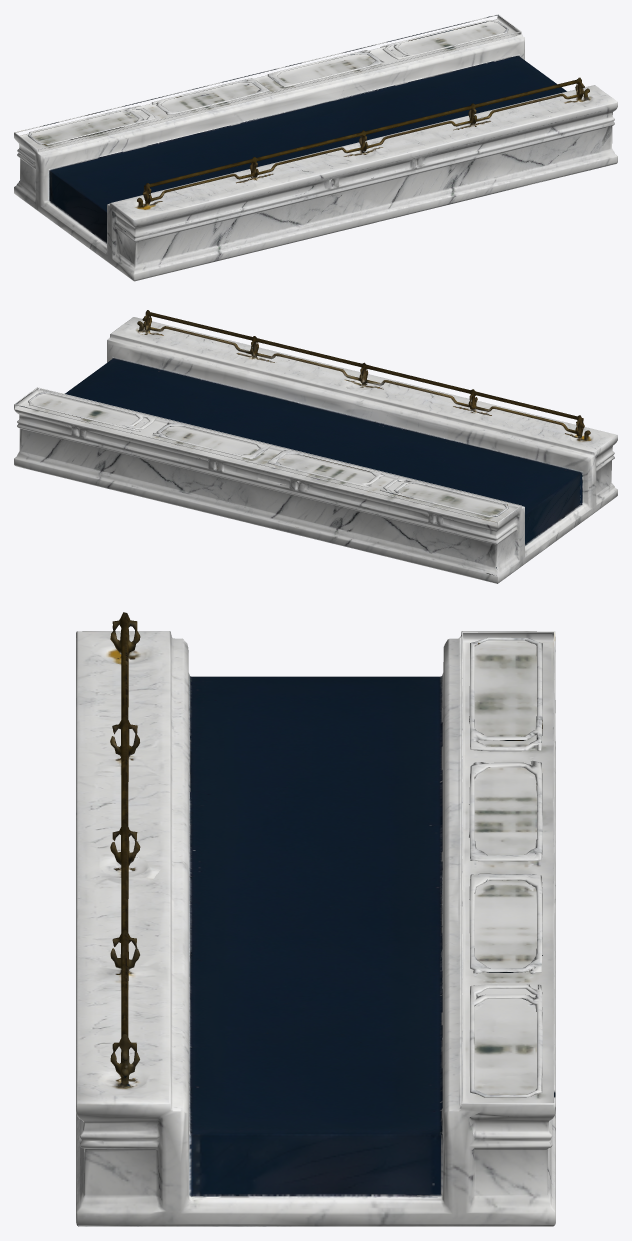
The model's file is Marble_Water_Channel__2.fbx.
The picture shows the model from 3 angles, top to bottom: view 1: azimuth 30°, elevation 25°; view 2: azimuth 150°, elevation 25°; view 3: azimuth 270°, elevation 25°; orthographic projection. The views are drawn at different scales.
Visible parts, largest first — view 1: Marble_Water_Channel__2_LOD0; view 2: Marble_Water_Channel__2_LOD0; view 3: Marble_Water_Channel__2_LOD0.
Part boxes in pixels (x1,y1,x2,y2): Marble_Water_Channel__2_LOD0: (14, 14, 617, 281); Marble_Water_Channel__2_LOD0: (14, 310, 617, 583); Marble_Water_Channel__2_LOD0: (76, 612, 555, 1226).
Size of what is drawn, in the model's own units: 1.9 by 0.3171 by 0.8145.
1 material, 1 textured.
